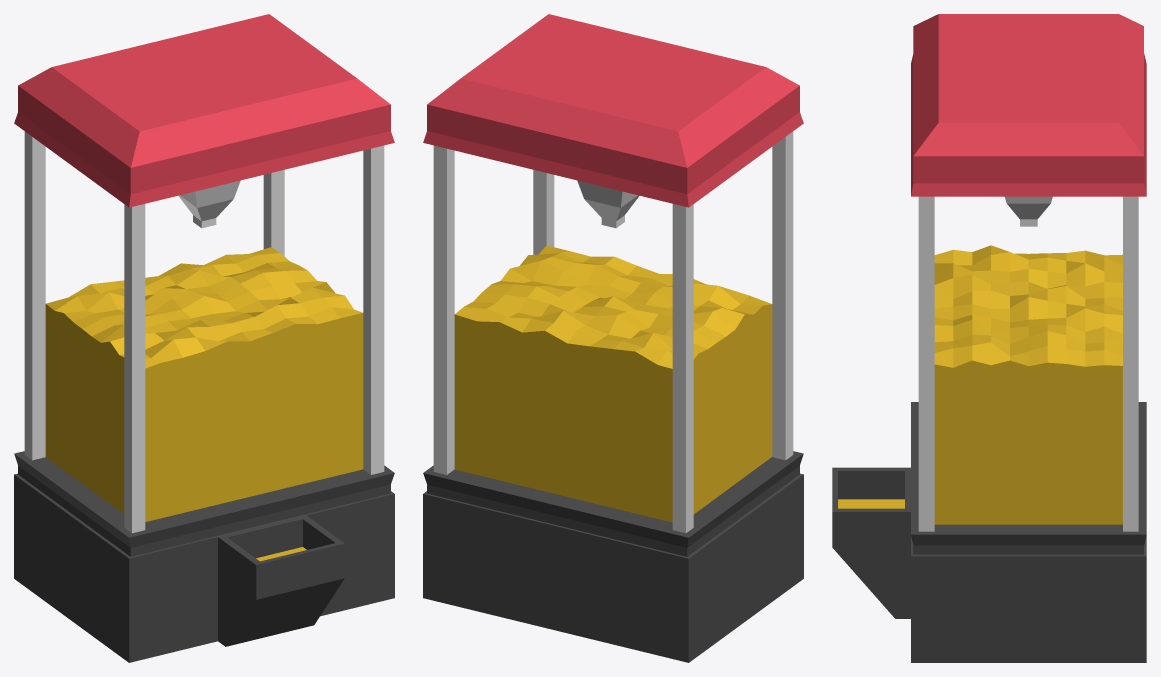
File: popcorn_machine.fbx
3 renders of one model, left to right at view 1: azimuth 30°, elevation 25°; view 2: azimuth 150°, elevation 25°; view 3: azimuth 270°, elevation 25°, orthographic. The views are drawn at different scales.
Parts seen in each view (by area): view 1: popcorn_machine, pop_t3, pop_t2, pop_t1; view 2: popcorn_machine, pop_t3, pop_t2, pop_t1; view 3: popcorn_machine, pop_t3, pop_t2, pop_t1.
Part boxes in pixels (x1,y1,x2,y2): popcorn_machine: (14, 14, 394, 662); pop_t3: (45, 247, 363, 521); pop_t2: (45, 374, 363, 521); pop_t1: (45, 443, 362, 521); popcorn_machine: (423, 14, 803, 662); pop_t3: (454, 245, 772, 521); pop_t2: (454, 384, 772, 522); pop_t1: (454, 453, 767, 522); popcorn_machine: (832, 14, 1146, 662); pop_t3: (934, 245, 1122, 524); pop_t2: (934, 431, 1122, 524); pop_t1: (935, 503, 1122, 524).
Size of the model in its own units: 400 by 742 by 400.
